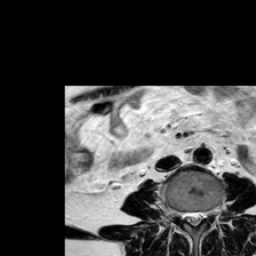CCS_stenosis: (191, 202, 198, 235)
LFS_normal: (205, 201, 213, 226)
LLS_normal: (198, 202, 205, 229)
RFS_normal: (174, 200, 182, 226)
RLS_normal: (182, 202, 191, 228)
